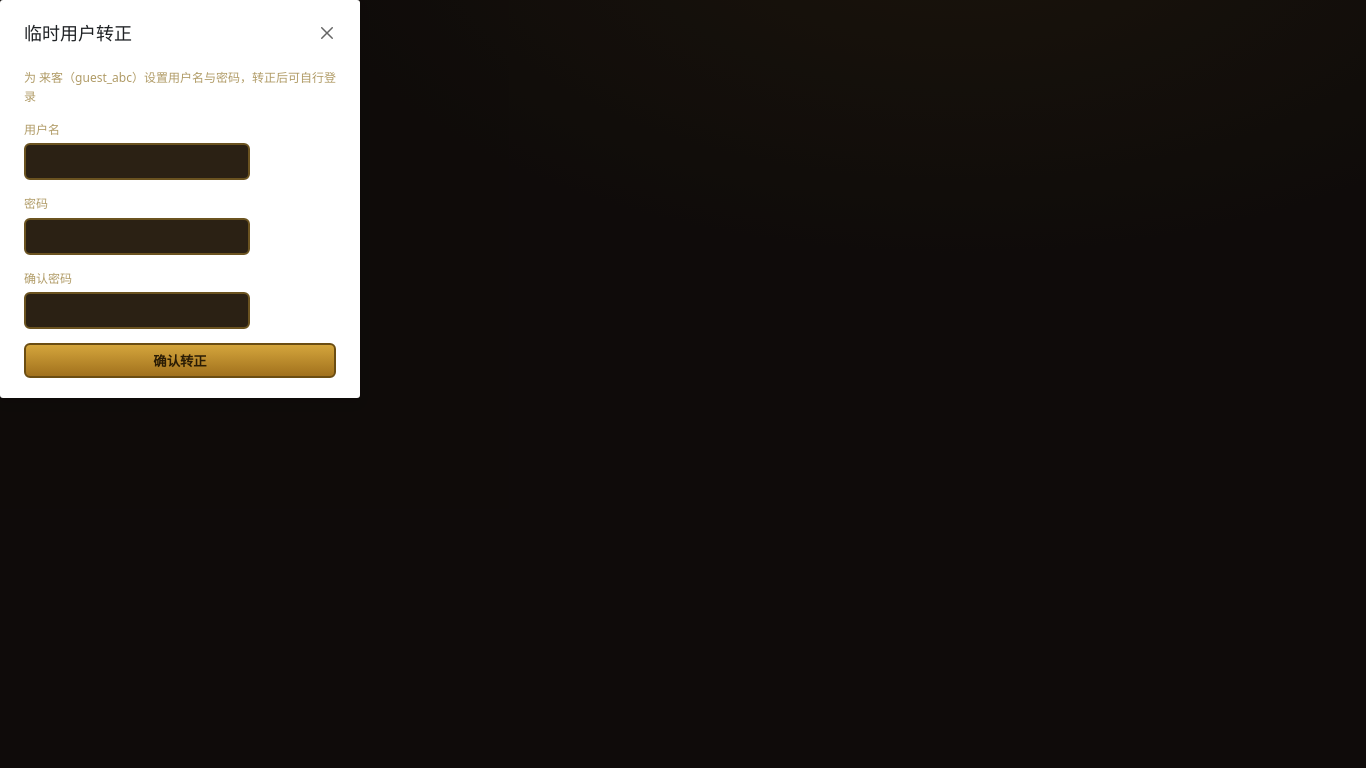
Test case: GuestConvertModal › 两次密码不一致报错不调接口
In the field: (137, 162) 24,143 -> 250,180, type "real1"
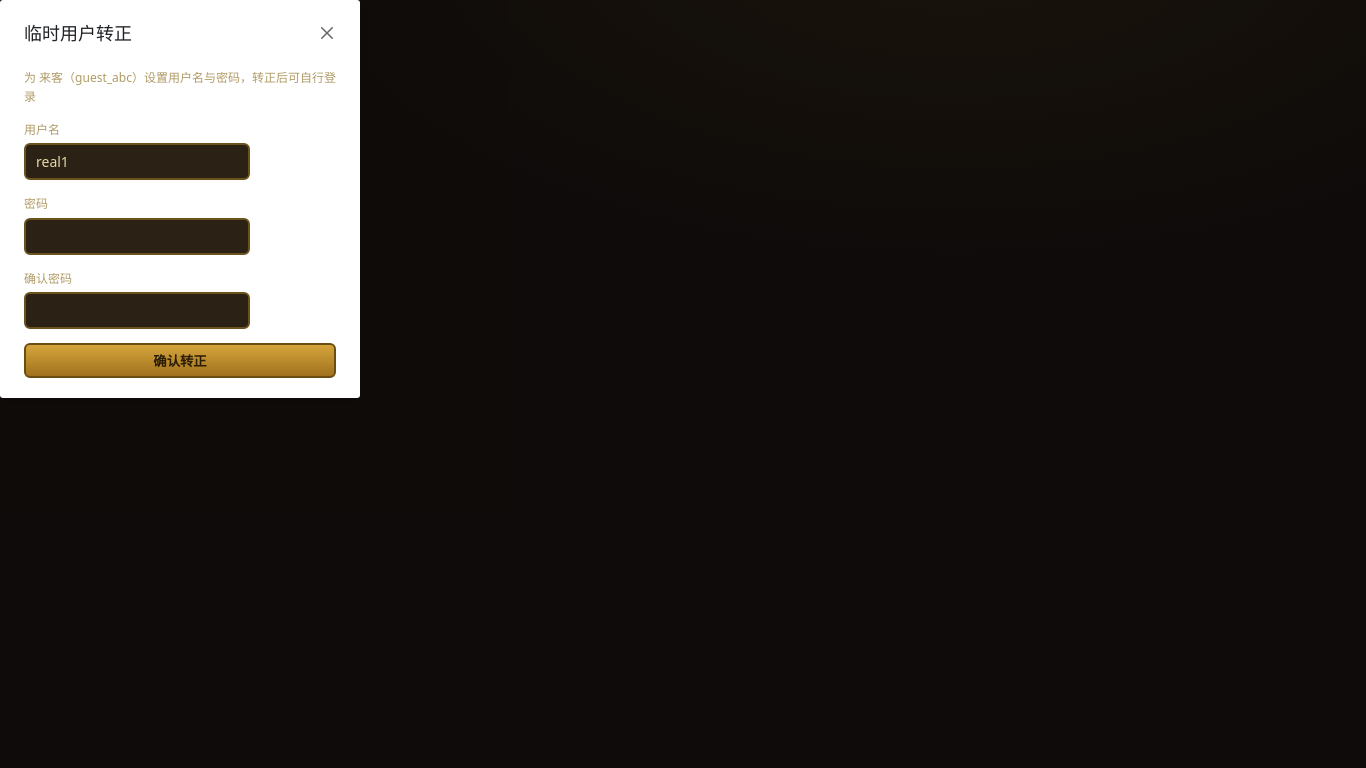
In the 1st password field: (137, 236) 24,218 -> 250,254, type "abcdef"
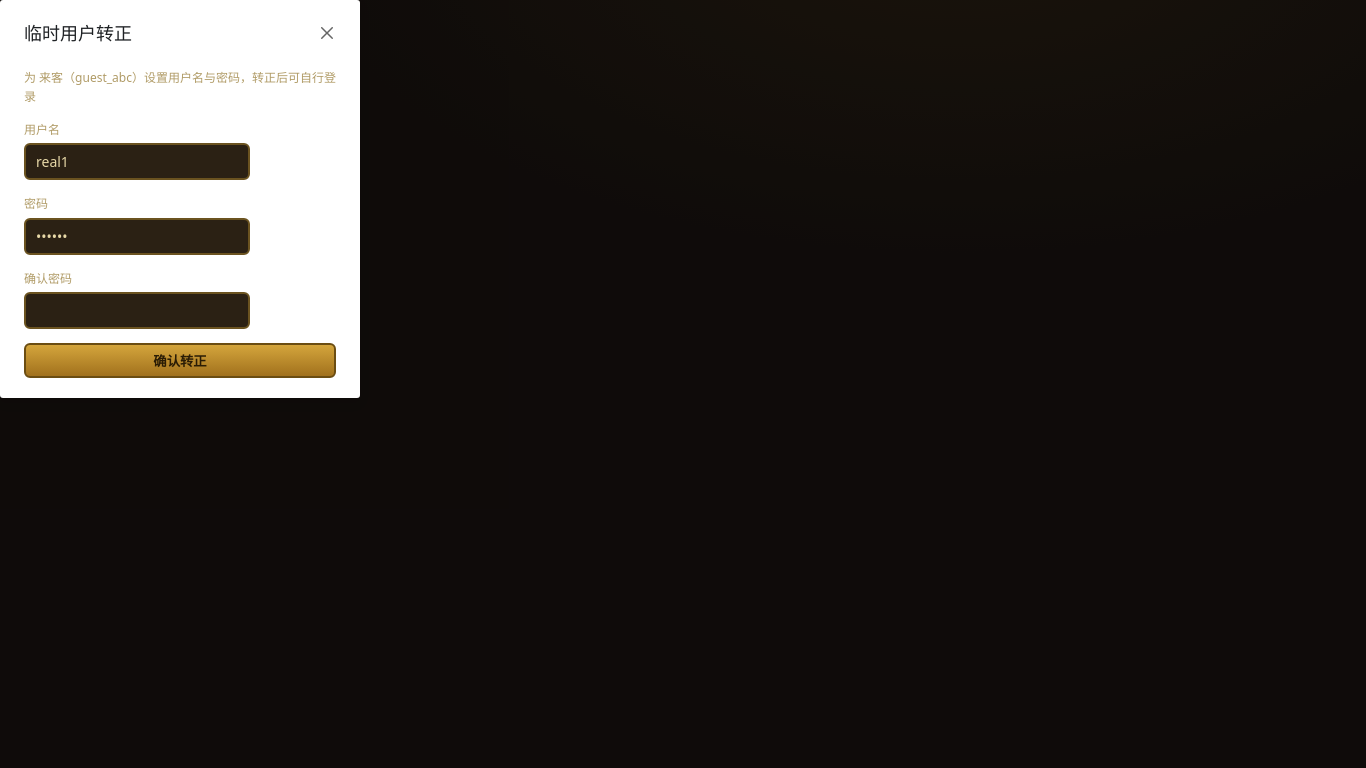
In the password field below "确认密码": (137, 310) 24,292 -> 250,329, type "abcdefg"
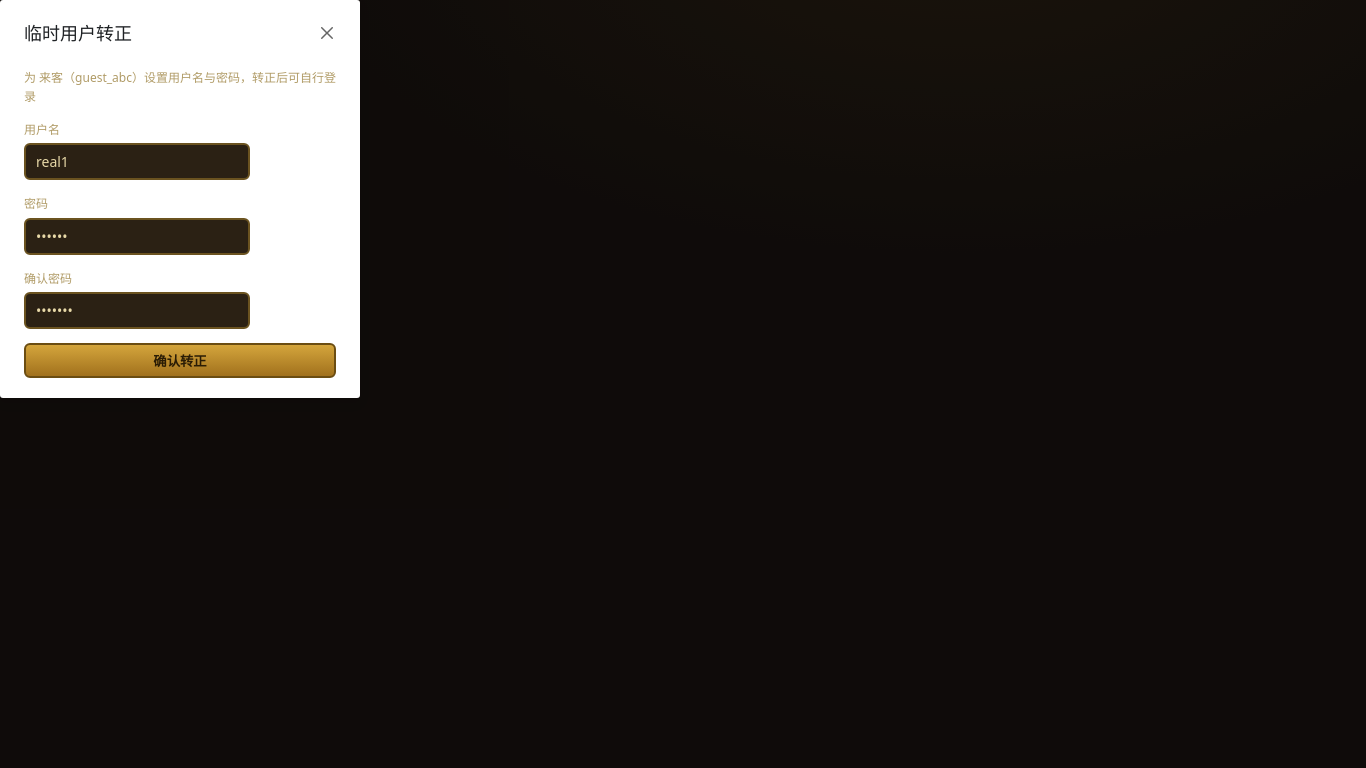
Click the button "确认转正": (180, 360) 24,343 -> 336,378
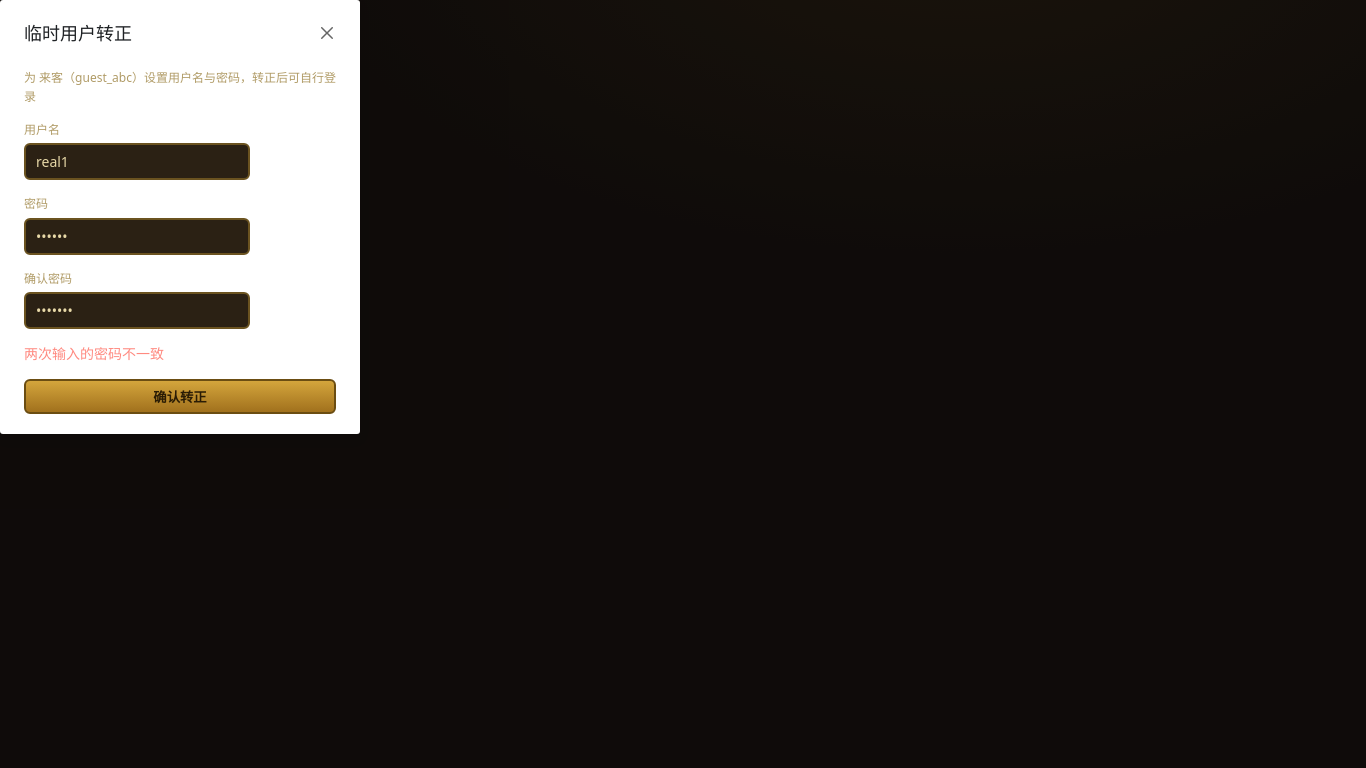
Expected: the text "两次输入的密码不一致" is shown, 24,344 -> 164,363
